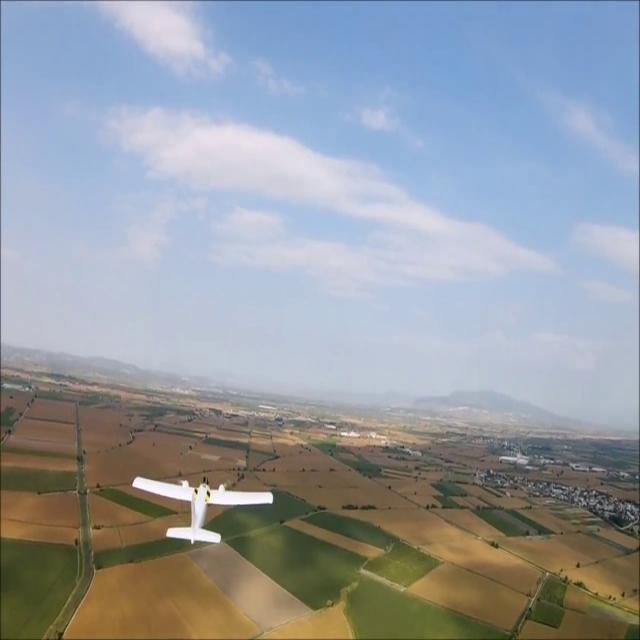iha: (123, 507, 268, 509)
